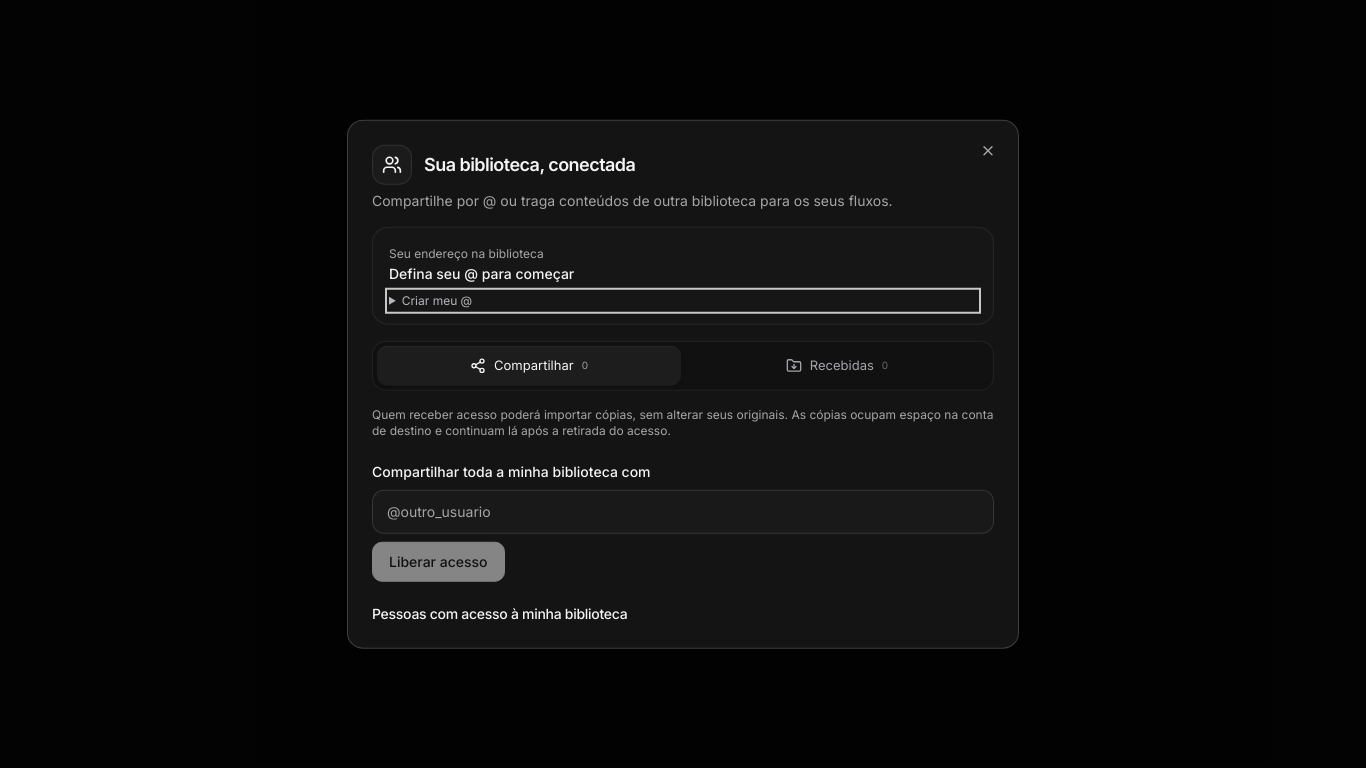
Test: library sharing dialog › imports the entire selected library and displays partial failures
Click the tab "Recebidas 0".
click(837, 366)  # box [685,346,989,385]
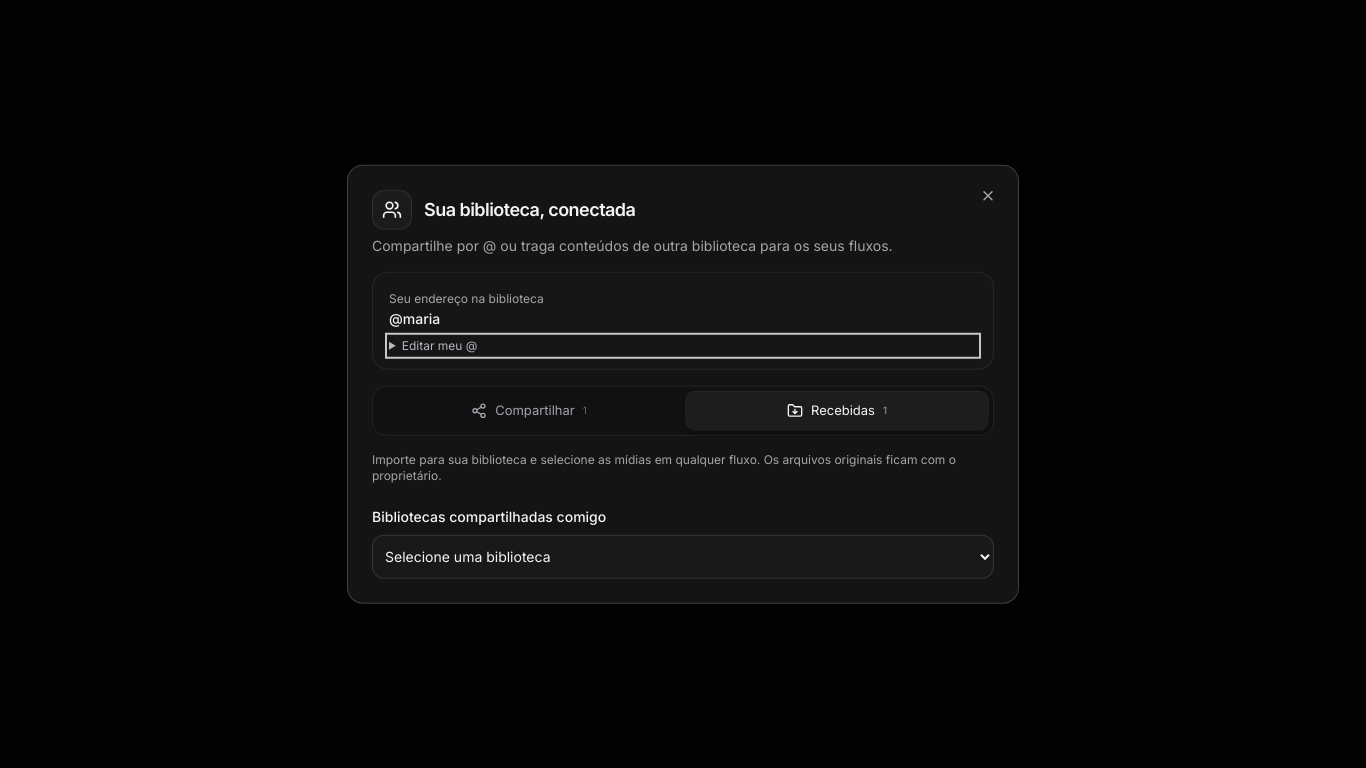
Select "@ana" in the dropdown labelled "Bibliotecas compartilhadas comigo" at (683, 556), box [372,534,994,578]
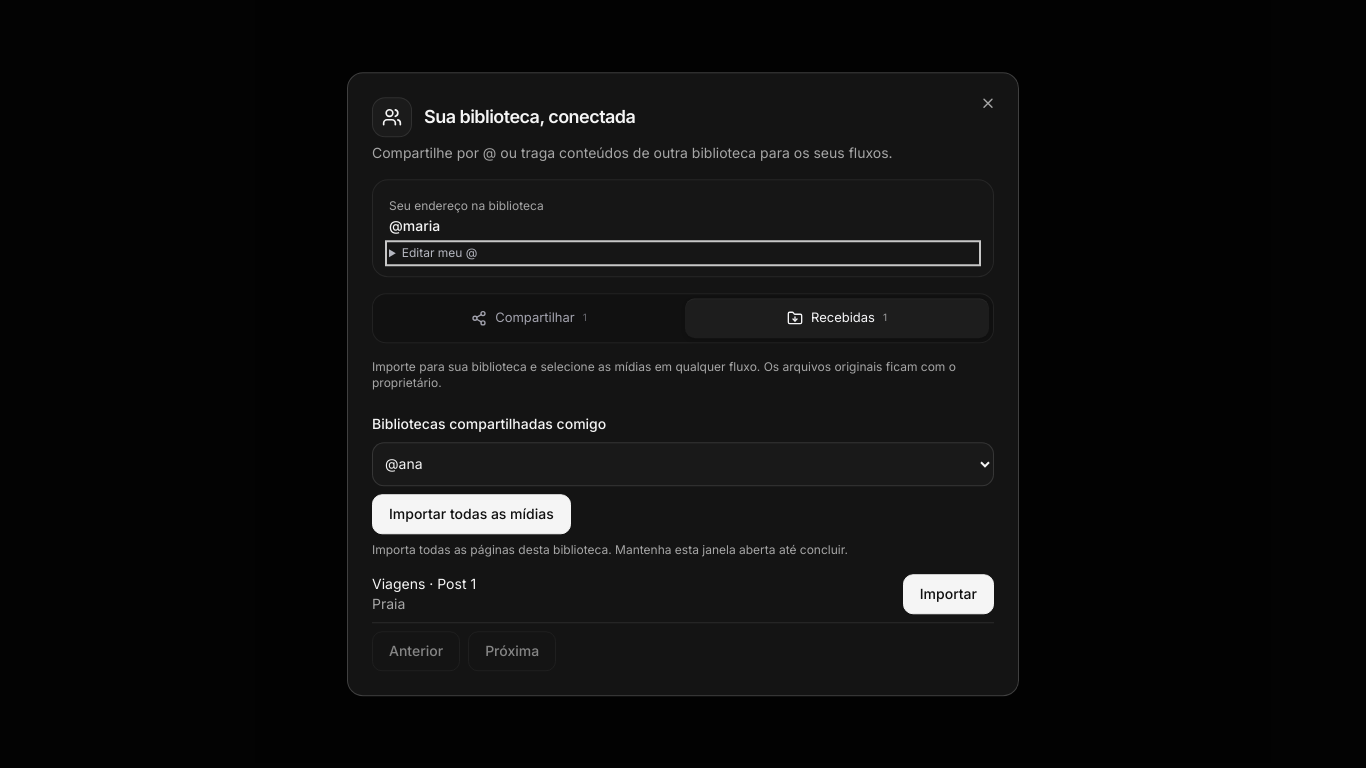
Check: the button "Importar" is shown, box [903,574,994,614]
Click the button "Importar todas as mídias".
click(471, 514)  # box [372,494,571,534]
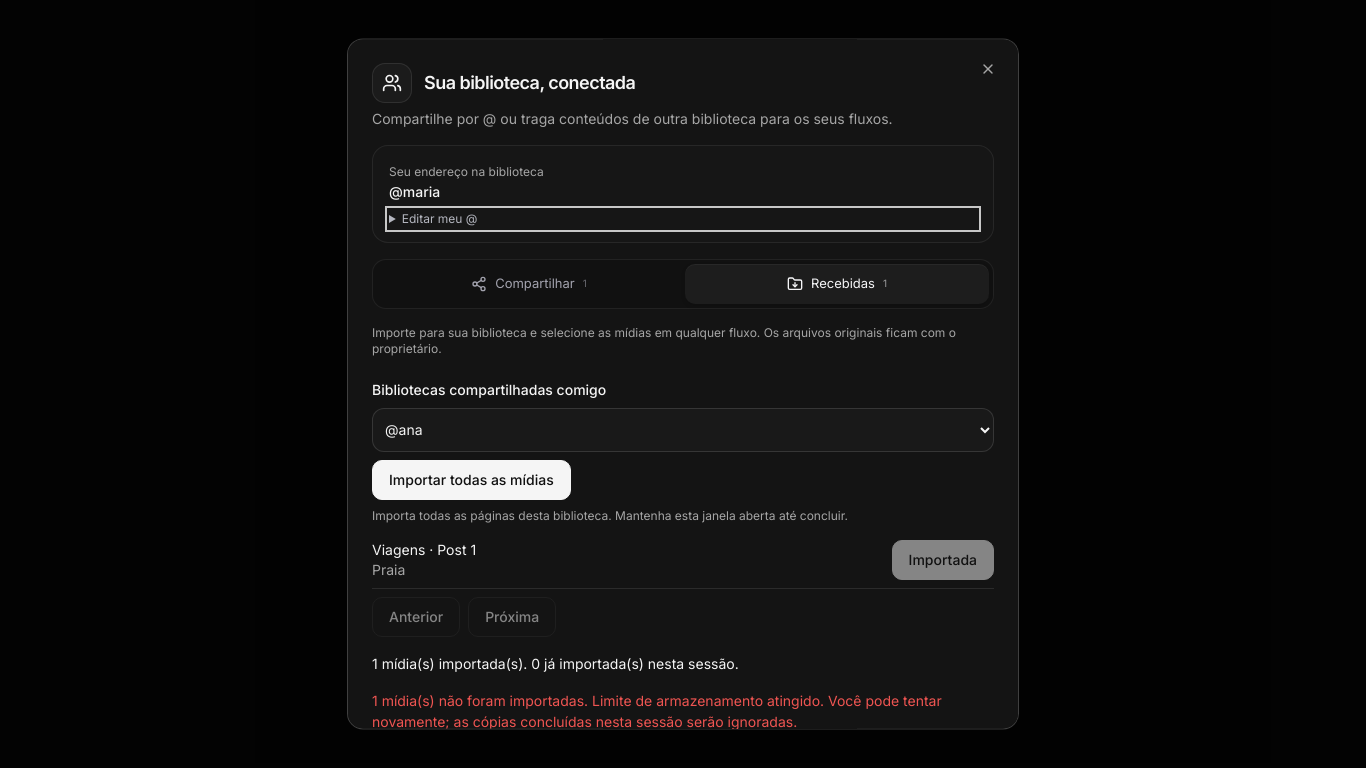
Check: the 2nd message shows "1 mídia(s) não foram importadas.", box [372,692,942,730]
Check: the button "Importada" is disabled, box [892,540,994,580]
